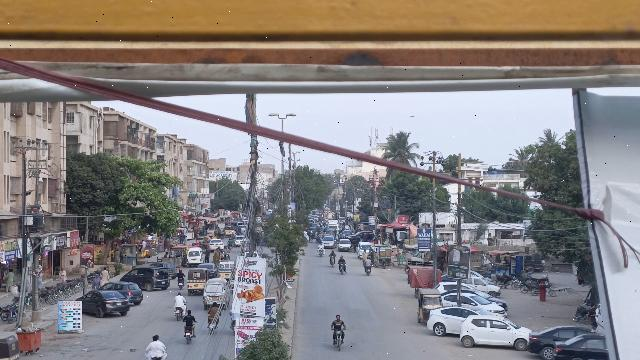Bike: (331, 327, 346, 351), (183, 324, 195, 346), (206, 316, 218, 336), (173, 303, 183, 323), (176, 278, 186, 291), (339, 261, 347, 277), (364, 265, 373, 279), (329, 257, 337, 269)
Car: (459, 312, 532, 353), (526, 322, 589, 359), (426, 305, 478, 337), (74, 289, 131, 318), (552, 332, 605, 360), (118, 266, 171, 291)
Person: (145, 333, 167, 357), (331, 313, 346, 329), (183, 308, 196, 326), (173, 292, 186, 309), (207, 301, 220, 316), (100, 265, 110, 284), (91, 273, 101, 290), (176, 268, 185, 280), (363, 256, 373, 265), (337, 254, 345, 265), (328, 249, 336, 258)
Rickshaw: (415, 286, 442, 324), (186, 268, 208, 292)
Van: (201, 279, 231, 310)
